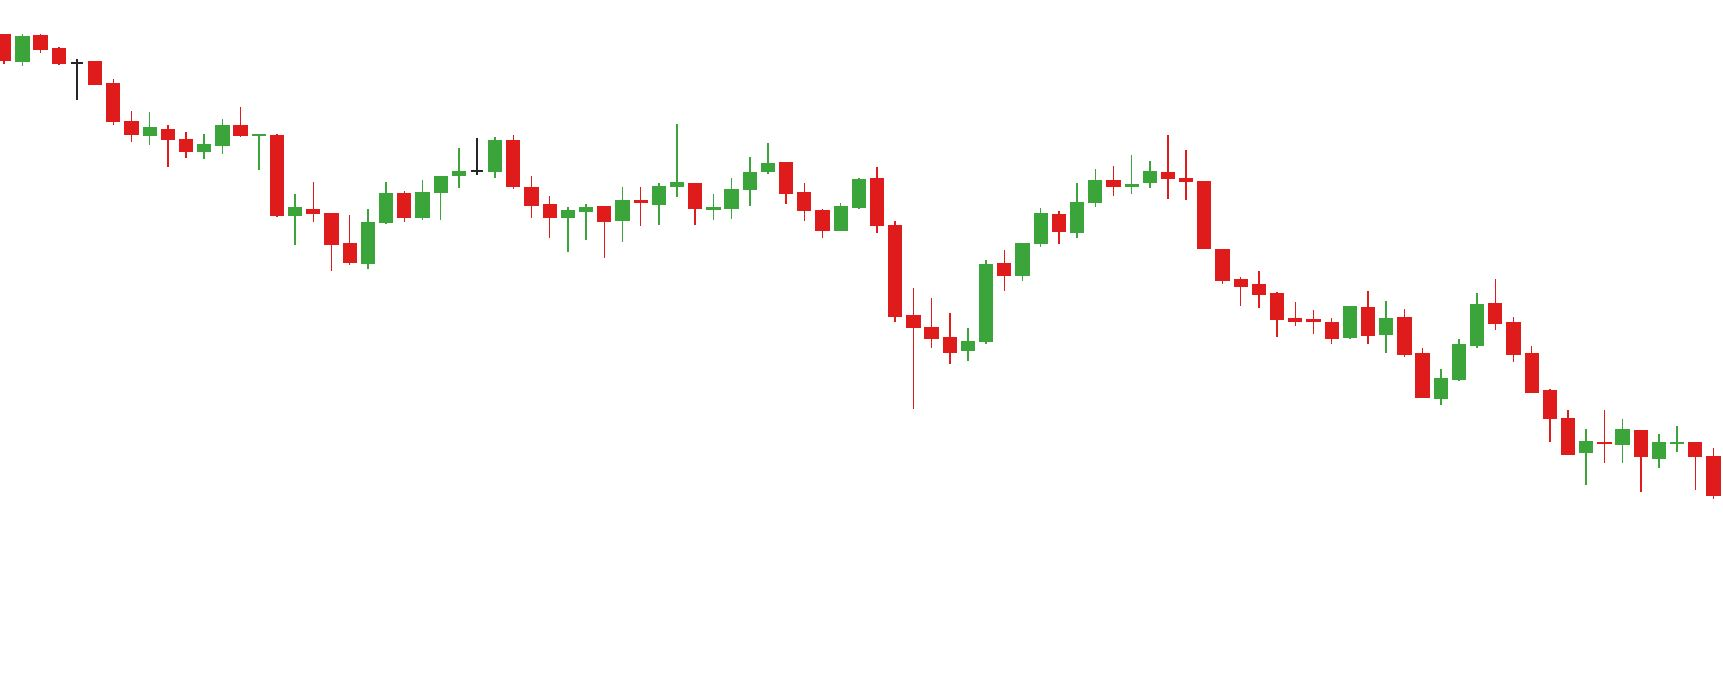sell: (1356, 270, 1504, 369)
